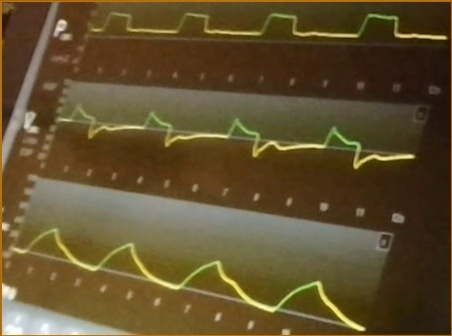Premature_cycling Flow: (61, 99, 412, 172)
Premature_cycling Volume: (16, 226, 368, 331)
